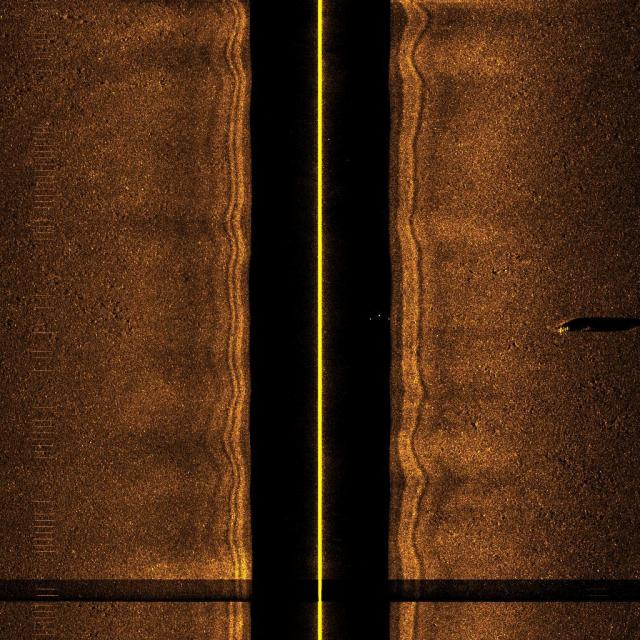mine: (551, 312, 639, 337)
